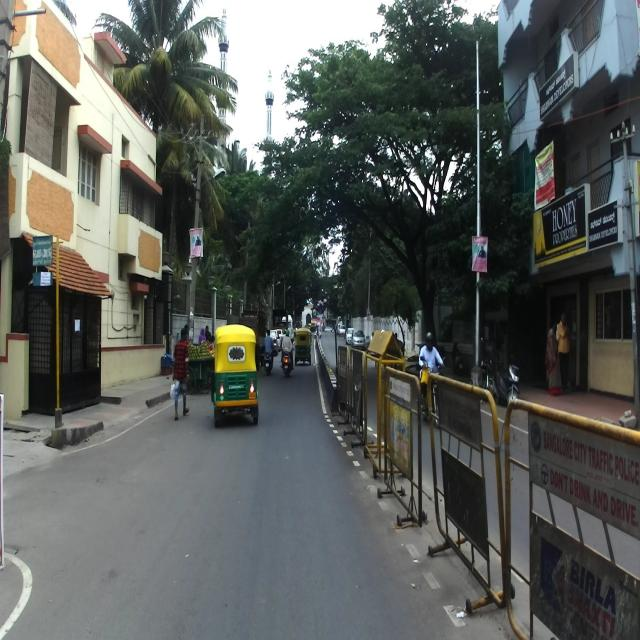autorickshaw: (210, 324, 259, 426)
motorcycle: (415, 355, 447, 428)
